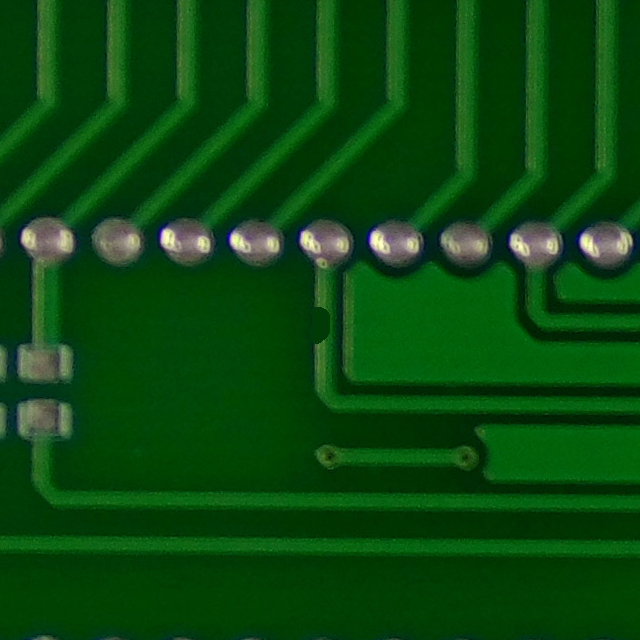mouse_bite: (298, 287, 342, 354)
